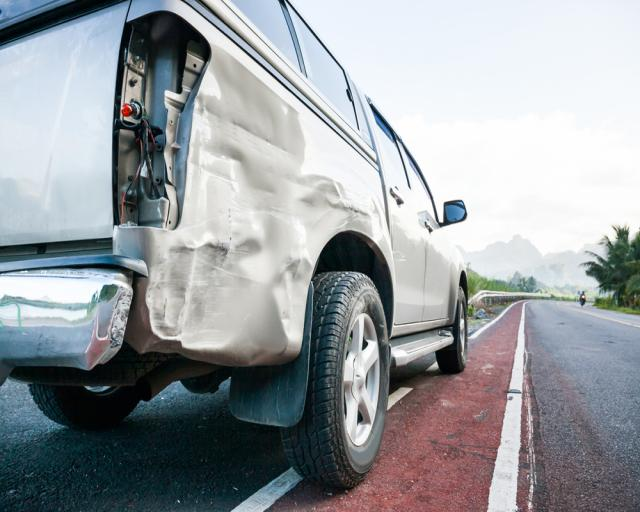dent: (142, 49, 386, 358)
